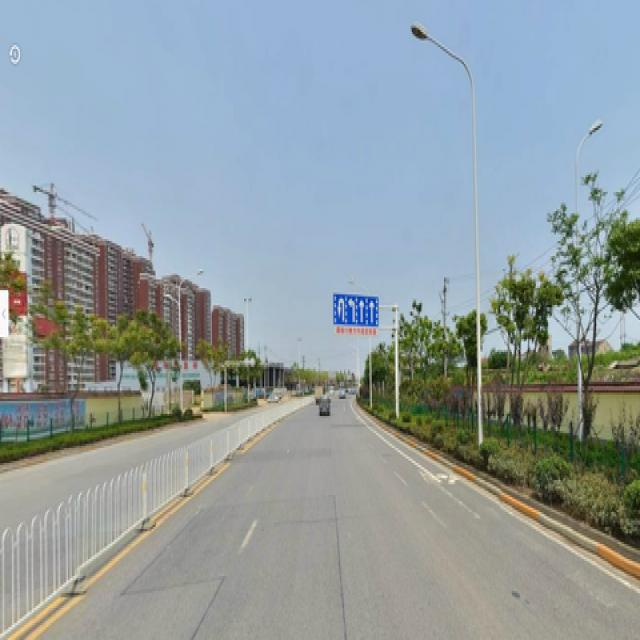koel: (567, 213, 608, 418), (103, 301, 132, 424), (60, 307, 87, 429), (509, 286, 539, 395), (401, 307, 427, 384), (147, 322, 165, 403), (205, 337, 219, 395)
